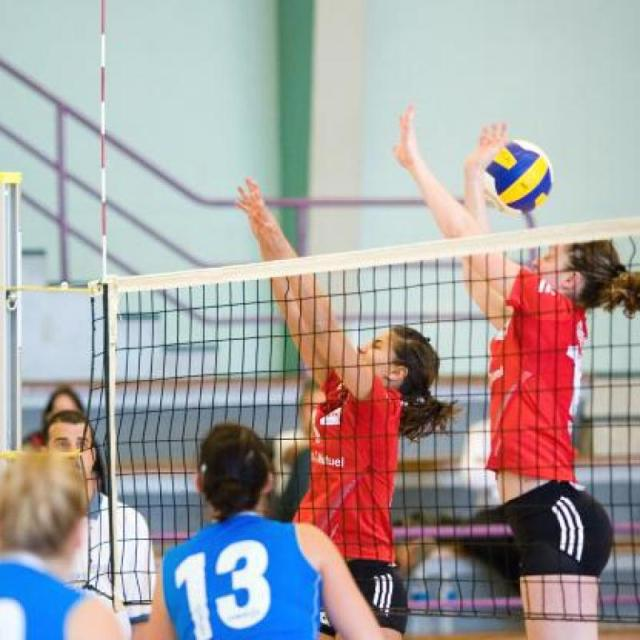volleyball: (481, 137, 554, 215)
